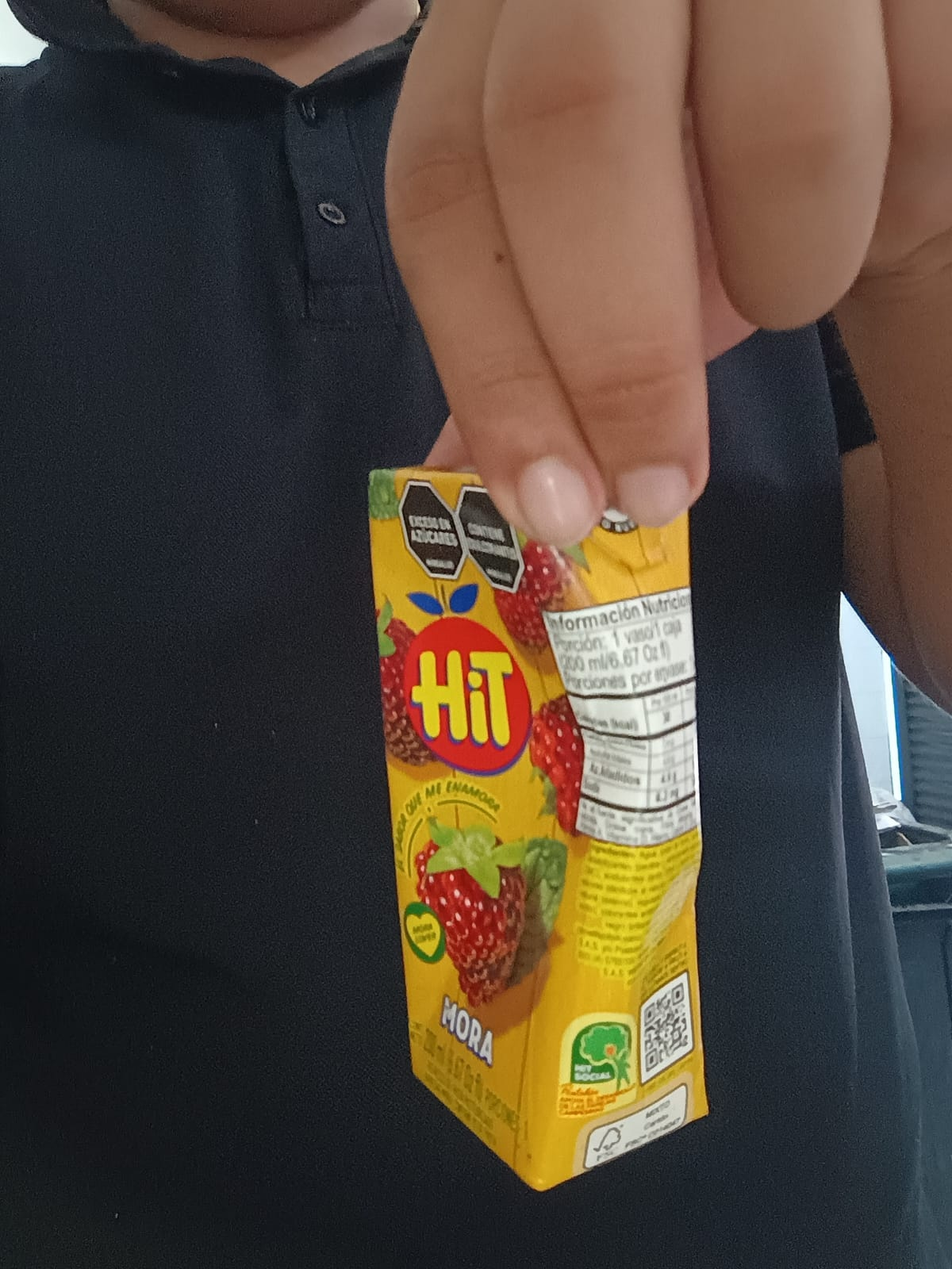Carton: (366, 464, 706, 1195)
